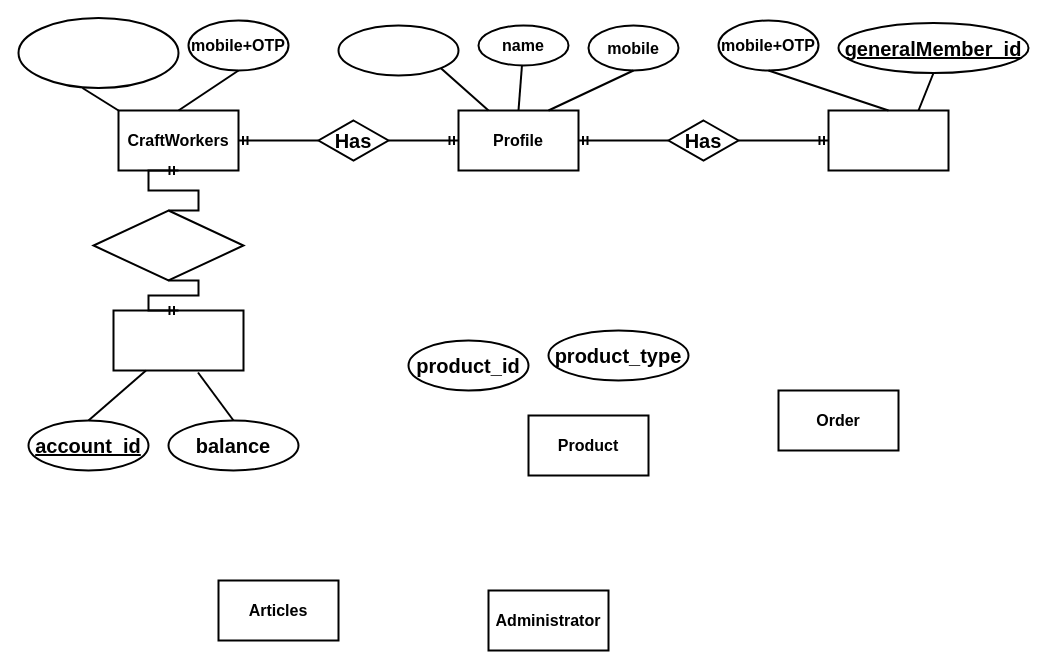
Image size: 1046x669. Some labels were removed from this diagram. The shapes that lost their labels are listed below. From the top down, each one's centre as x and y in pixels, then its label:
pixel 98 52: craftworkers_id
pixel 398 50: profile_id
pixel 888 140: General People
pixel 168 245: withdraw
pixel 178 340: balanceAccount
